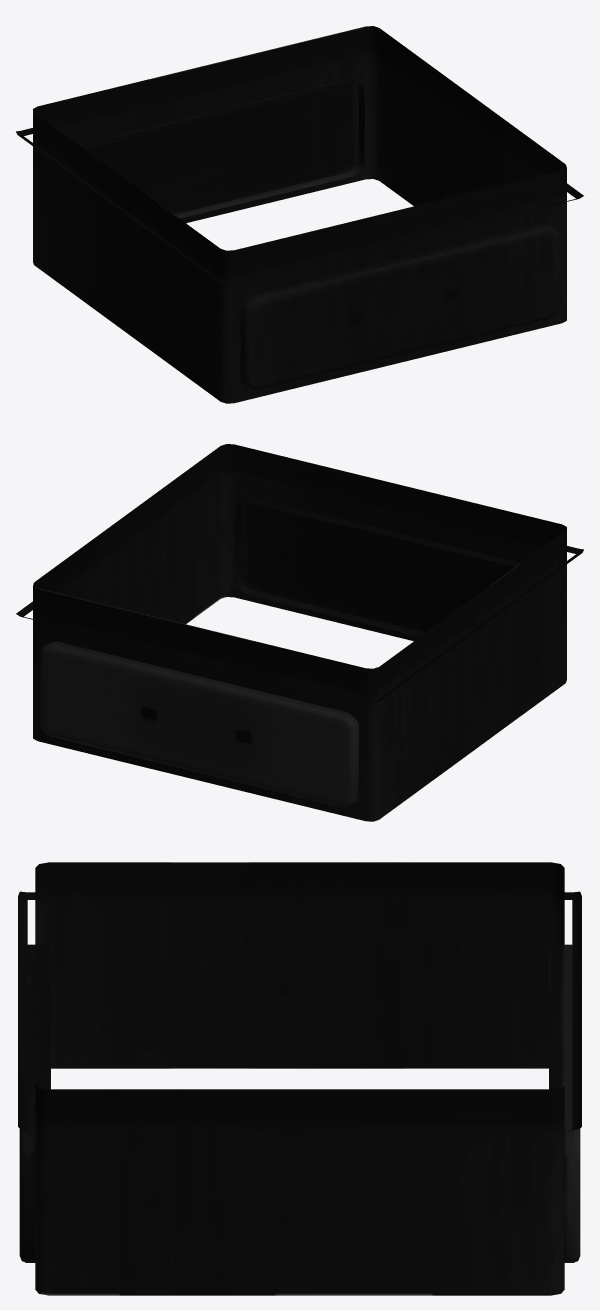
Rendered from Customer_Table_Black.fbx.
3 renders of one model, top to bottom at view 1: azimuth 30°, elevation 25°; view 2: azimuth 150°, elevation 25°; view 3: azimuth 270°, elevation 25°, orthographic. The views are drawn at different scales.
Parts seen in each view (by area): view 1: Worktop.052; view 2: Worktop.052; view 3: Worktop.052.
Boxes of the visible parts, x1,y1,x2,y2 form: Worktop.052: (16,26,583,403); Worktop.052: (16,444,583,821); Worktop.052: (18,862,581,1295).
Size of the model in its own units: 120 by 50 by 120.
